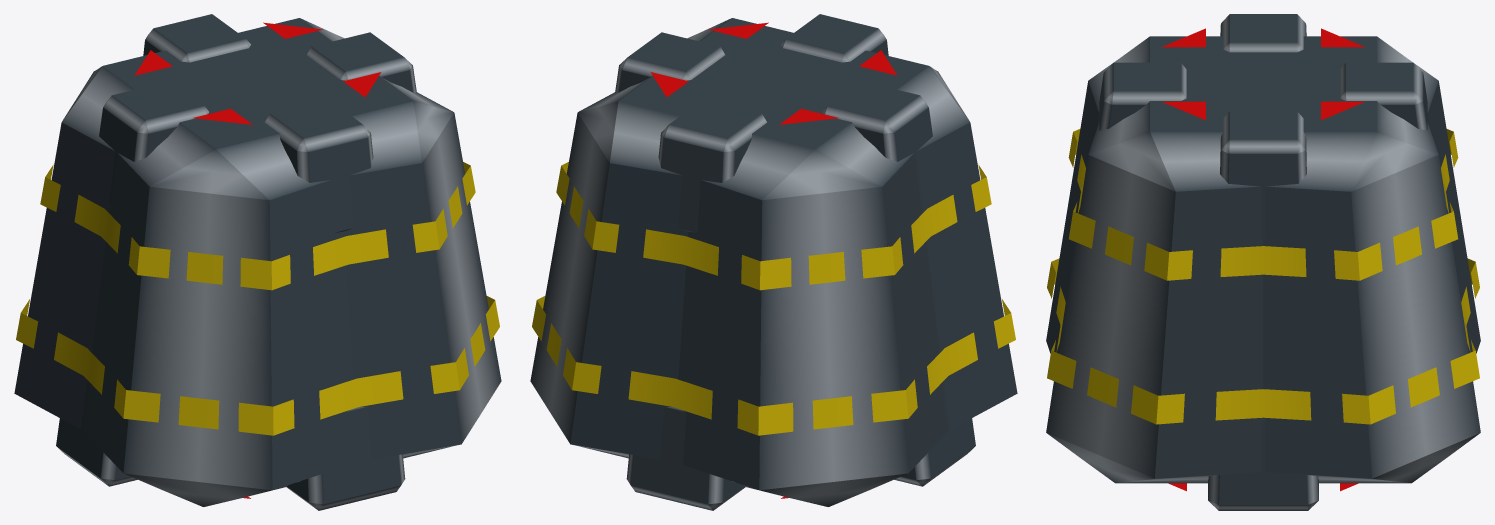
Rendered from Obj_ObstacleStation.FBX.
The picture shows the model from 3 angles, left to right: view 1: azimuth 30°, elevation 25°; view 2: azimuth 150°, elevation 25°; view 3: azimuth 270°, elevation 25°; orthographic projection.
Visible parts, largest first — view 1: Obj_ObstacleStation; view 2: Obj_ObstacleStation; view 3: Obj_ObstacleStation.
Part boxes in pixels (x1,y1,x2,y2): Obj_ObstacleStation: [14, 14, 501, 510]; Obj_ObstacleStation: [530, 14, 1017, 510]; Obj_ObstacleStation: [1046, 14, 1480, 510].
Size of the model in its own units: 117 by 117 by 106.
